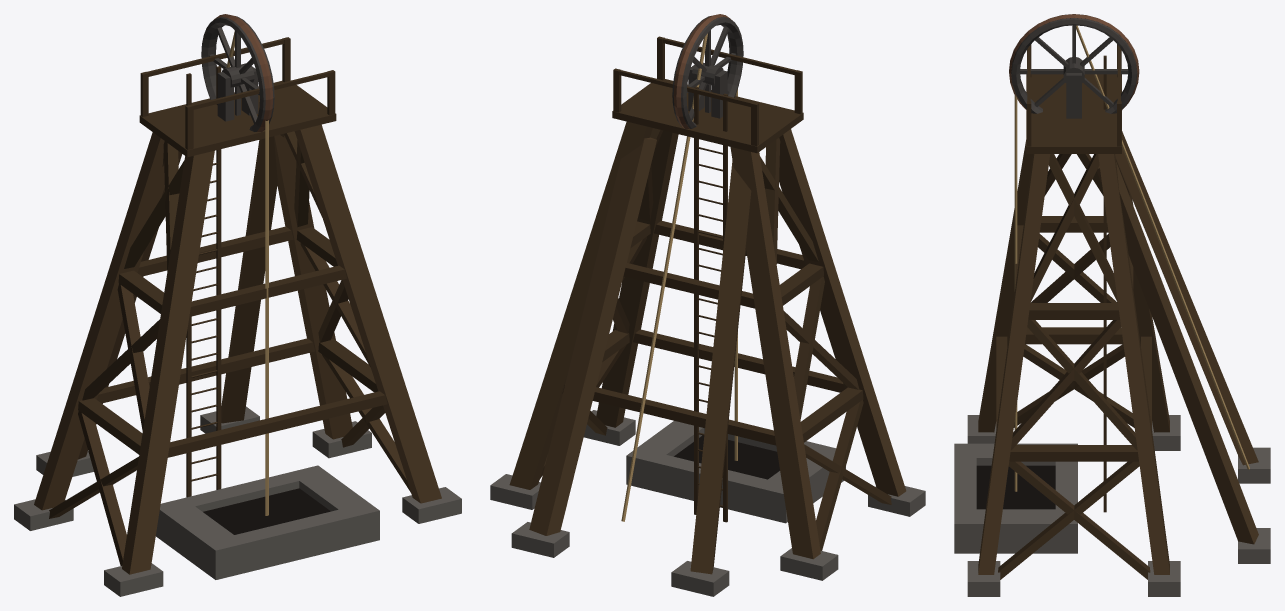
Rendered from deepgate-headframe.glb.
3 views of the same model, side by side, from view 1: azimuth 30°, elevation 25°; view 2: azimuth 150°, elevation 25°; view 3: azimuth 270°, elevation 25° (orthographic). The views are drawn at different scales.
Visible parts, largest first — view 1: Body_Wood, Body_WoodDark, Body_Stone, Spin_Iron, Body_Dark, Body_Rope, Spin_Rust, Body_Iron; view 2: Body_Wood, Body_WoodDark, Body_Stone, Spin_Iron, Body_Rope, Body_Dark, Spin_Rust, Body_Iron; view 3: Body_Wood, Body_WoodDark, Body_Stone, Spin_Iron, Body_Rope, Body_Dark, Spin_Rust, Body_Iron.
Boxes of the visible parts, box(x1,y1,x2,y2) form: Body_Wood: box(34, 124, 441, 574); Body_WoodDark: box(49, 37, 410, 565); Body_Stone: box(14, 406, 461, 596); Spin_Iron: box(201, 16, 274, 131); Body_Dark: box(203, 488, 330, 534); Body_Rope: box(226, 30, 268, 515); Spin_Rust: box(213, 14, 273, 132); Body_Iron: box(217, 66, 258, 121); Body_Wood: box(509, 121, 906, 574); Body_WoodDark: box(539, 36, 891, 550); Body_Stone: box(490, 410, 925, 596); Spin_Iron: box(672, 16, 743, 128); Body_Rope: box(621, 33, 737, 521); Body_Dark: box(674, 435, 779, 479); Spin_Rust: box(673, 14, 732, 128); Body_Iron: box(688, 64, 727, 118); Body_Wood: box(978, 131, 1258, 574); Body_WoodDark: box(996, 44, 1151, 579); Body_Stone: box(954, 415, 1270, 596); Spin_Iron: box(1011, 14, 1137, 113); Body_Rope: box(1014, 25, 1249, 491); Body_Dark: box(976, 465, 1055, 509); Spin_Rust: box(1009, 14, 1139, 110); Body_Iron: box(1066, 73, 1081, 118).
Bounding box in the file's own units: 10 × 14 × 8.
